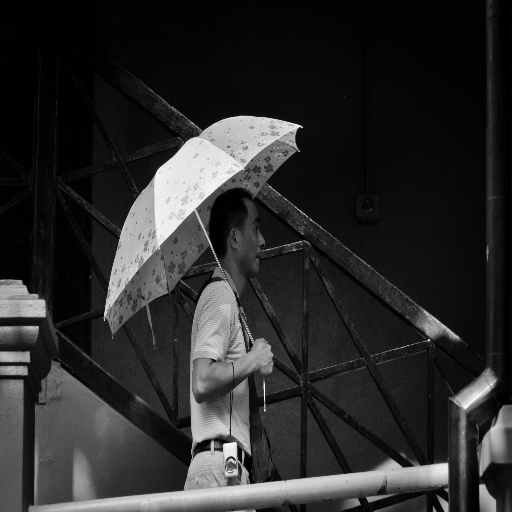hand: (252, 338, 273, 378)
